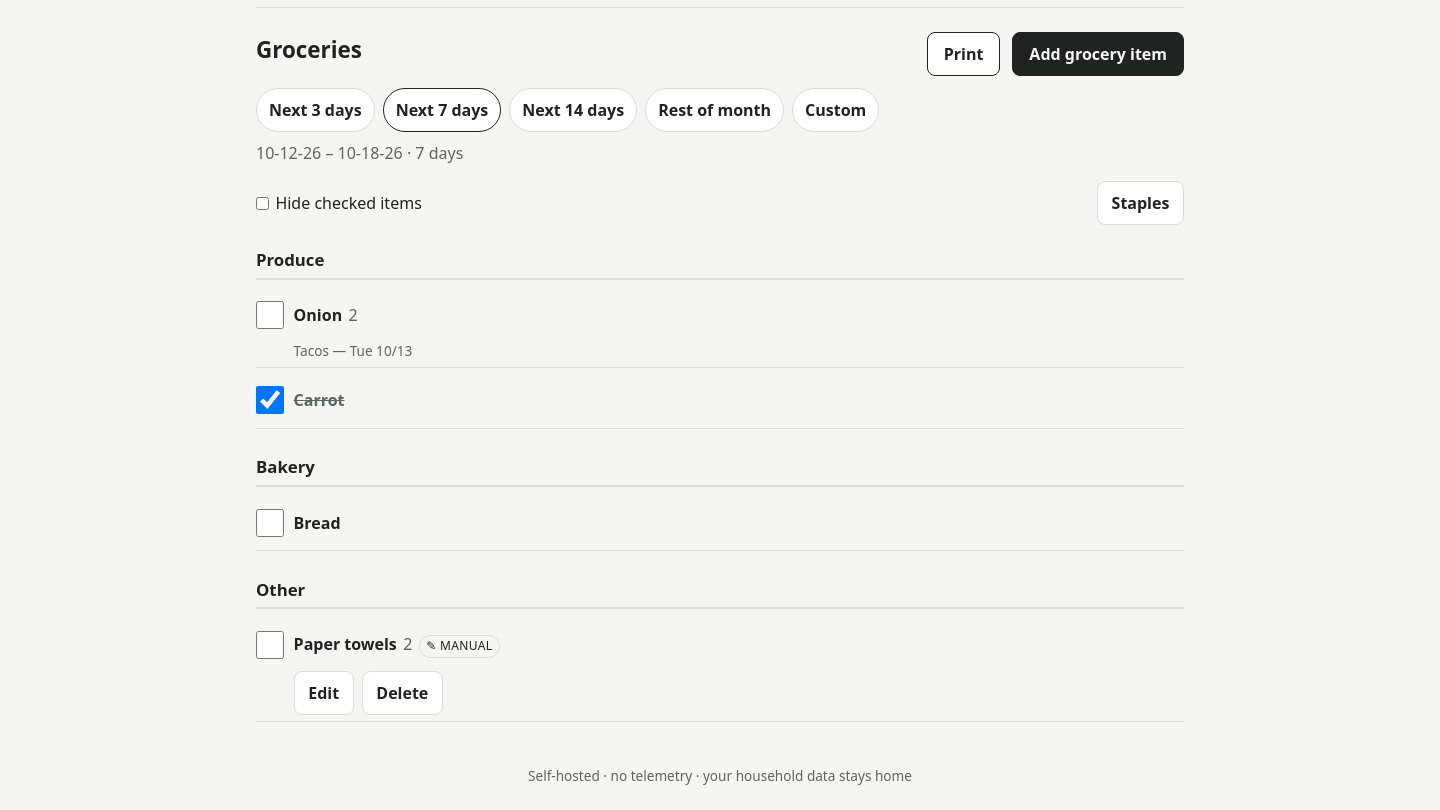
groceries page › edits an existing manual item
This screenshot has width=1440, height=810.
(page scrolled)
Expected: the text "Paper towels" is shown, [294,632,397,656]
Click the button with aria-label "Edit Paper towels": [324, 693] box [294,671,354,715]
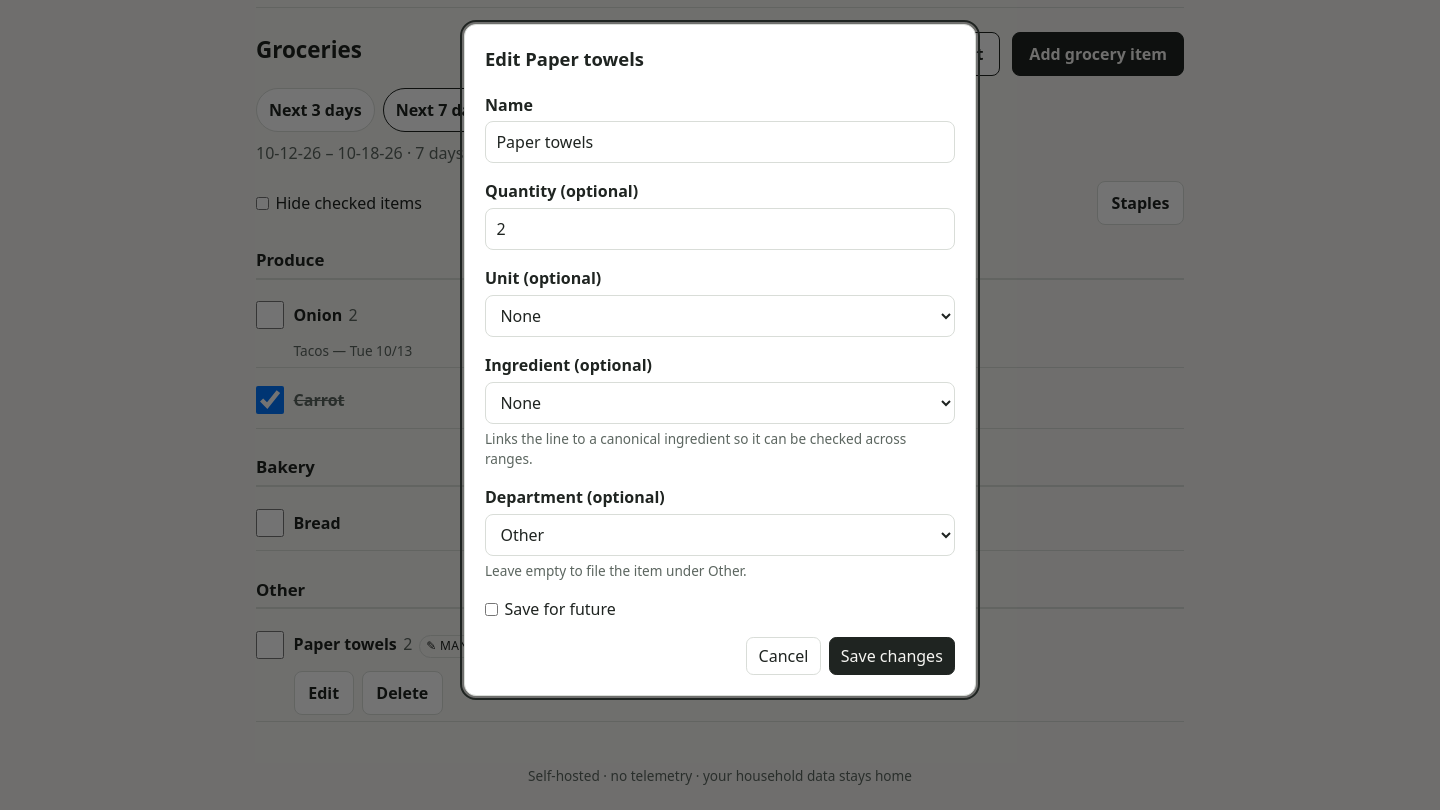
Replace the text in the field labelled "Name" with "Kitchen roll": [720, 142] box [485,121,955,163]
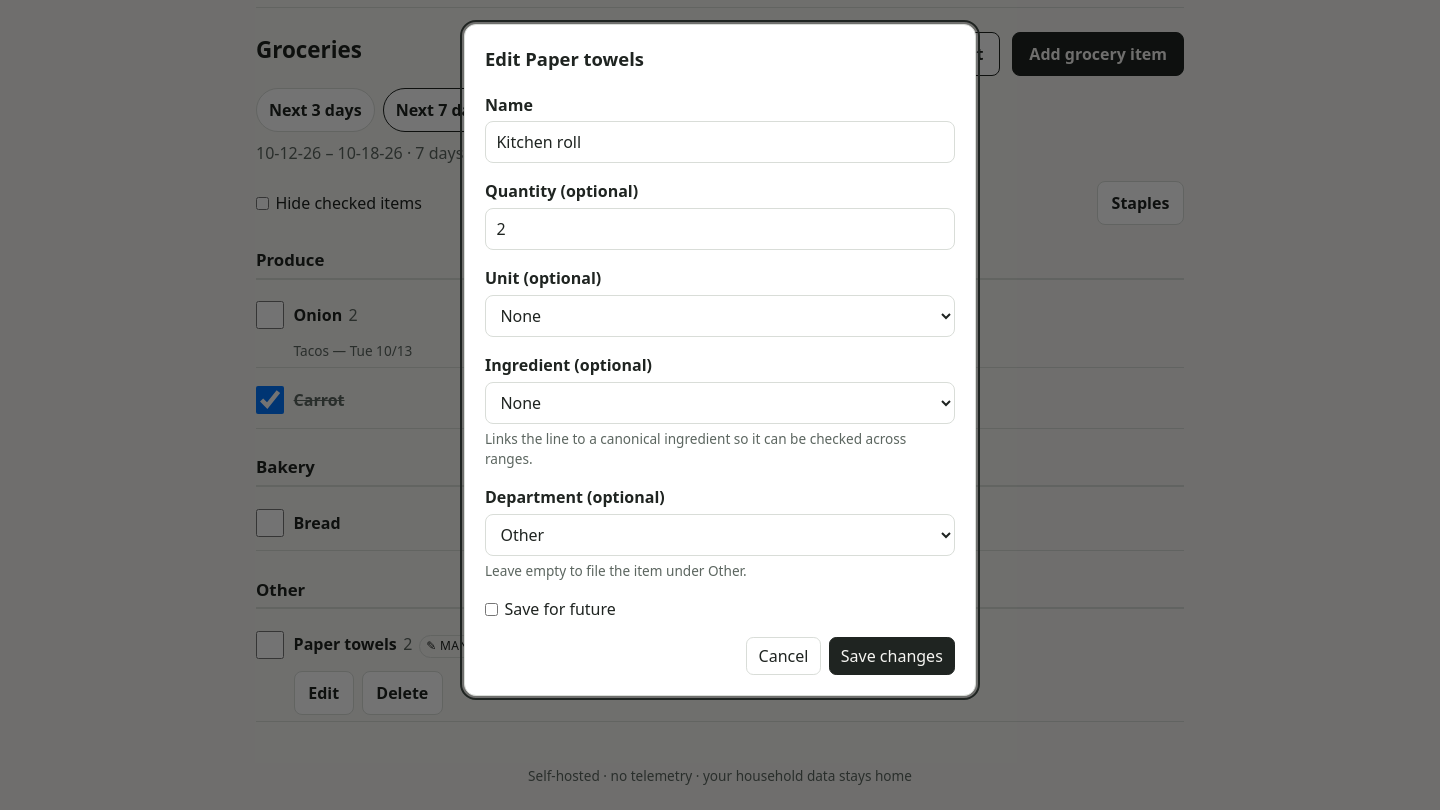
Click the button "Save changes": [892, 656] box [829,637,955,675]
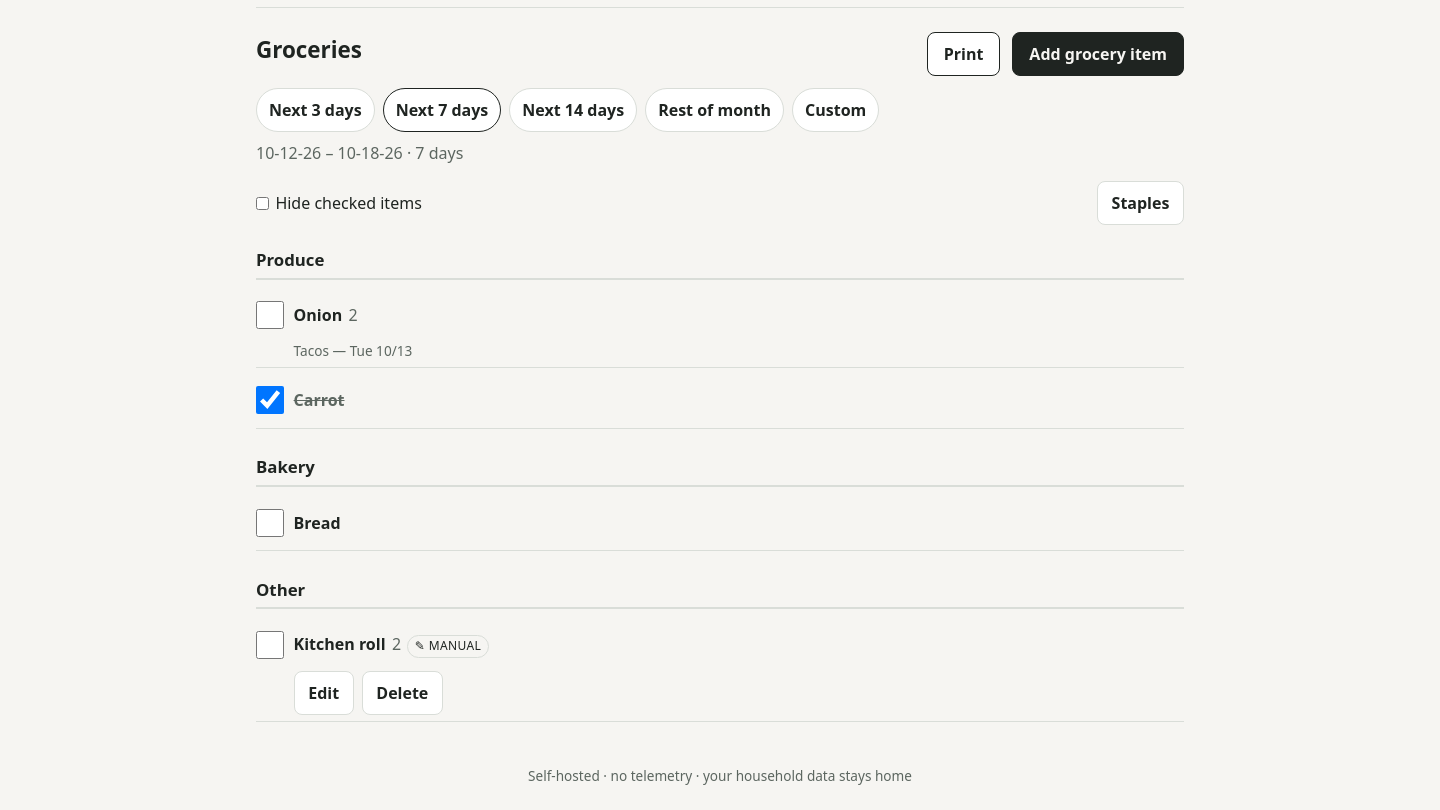
Result: the text "Kitchen roll" is shown at [294,632,386,656]
